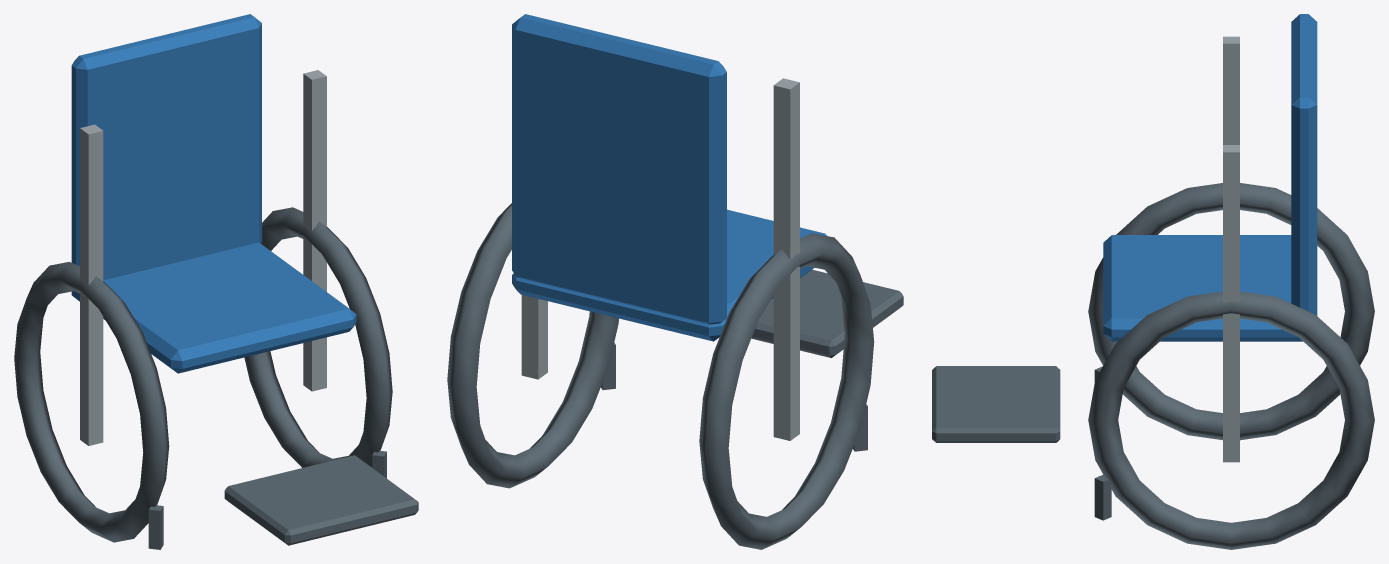
The model's file is decor_3.fbx.
3 renders of one model, left to right at view 1: azimuth 30°, elevation 25°; view 2: azimuth 150°, elevation 25°; view 3: azimuth 270°, elevation 25°, orthographic. The views are drawn at different scales.
Visible parts, largest first — view 1: decor_3; view 2: decor_3; view 3: decor_3.
Part boxes in pixels (x1,y1,x2,y2): decor_3: [14, 14, 418, 549]; decor_3: [447, 14, 903, 549]; decor_3: [932, 14, 1374, 549].
Bounding box in the file's own units: 0.67 × 1.14 × 1.03.
